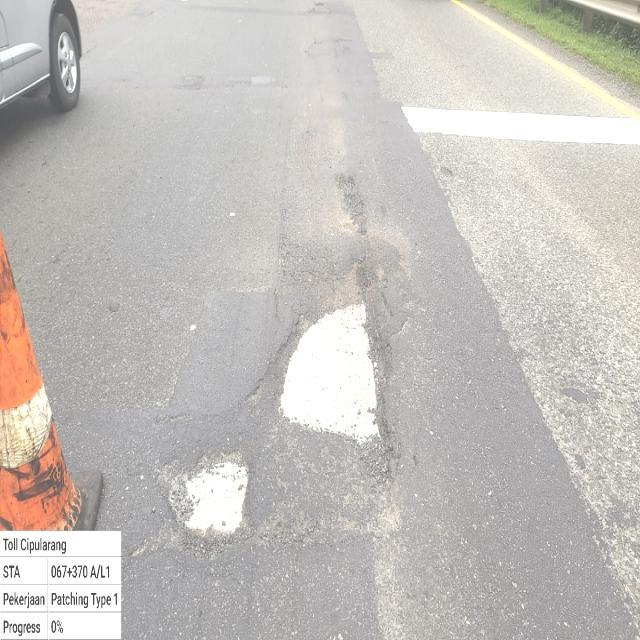Buraco: (242, 256, 397, 476), (150, 447, 260, 550)
